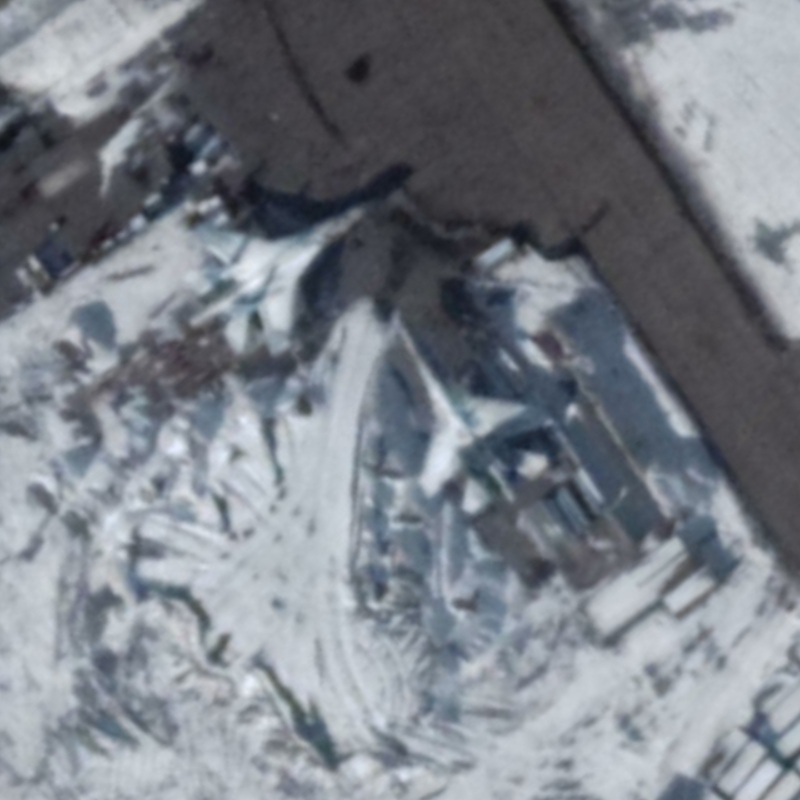A1: (387, 316, 563, 520), (183, 193, 377, 363)
